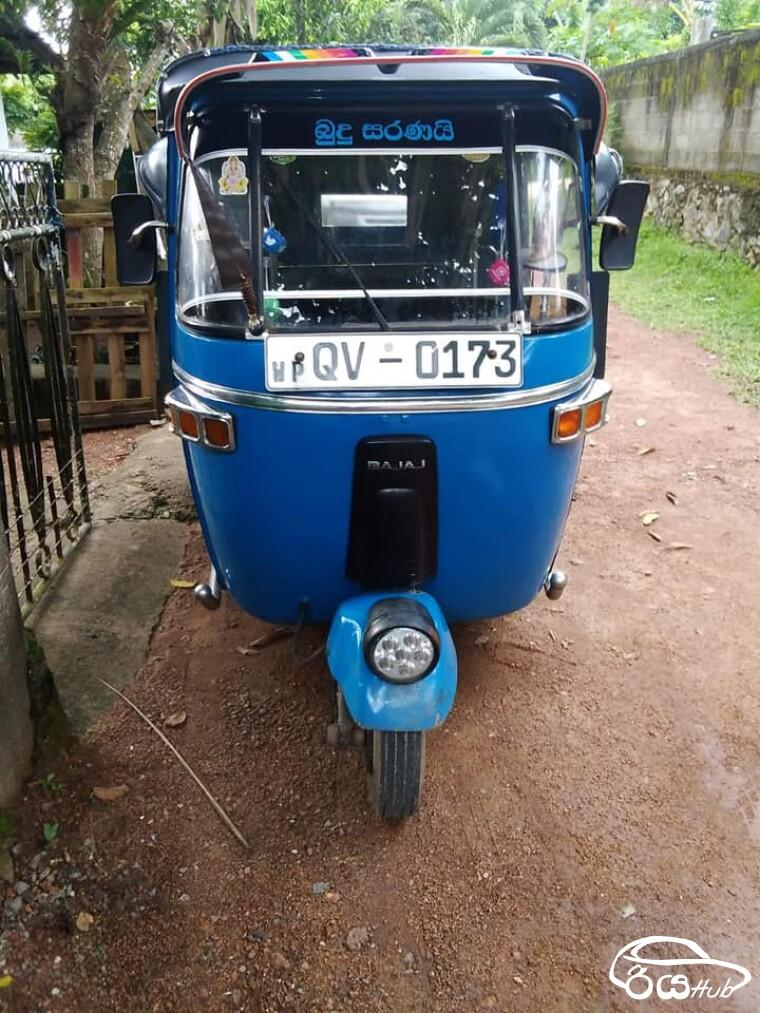threewheel: (111, 41, 649, 825)
